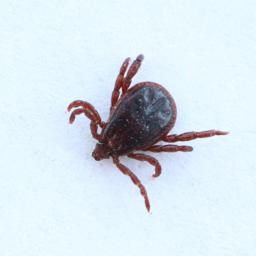Rhipicephalus sanguineus: (64, 54, 230, 215)
